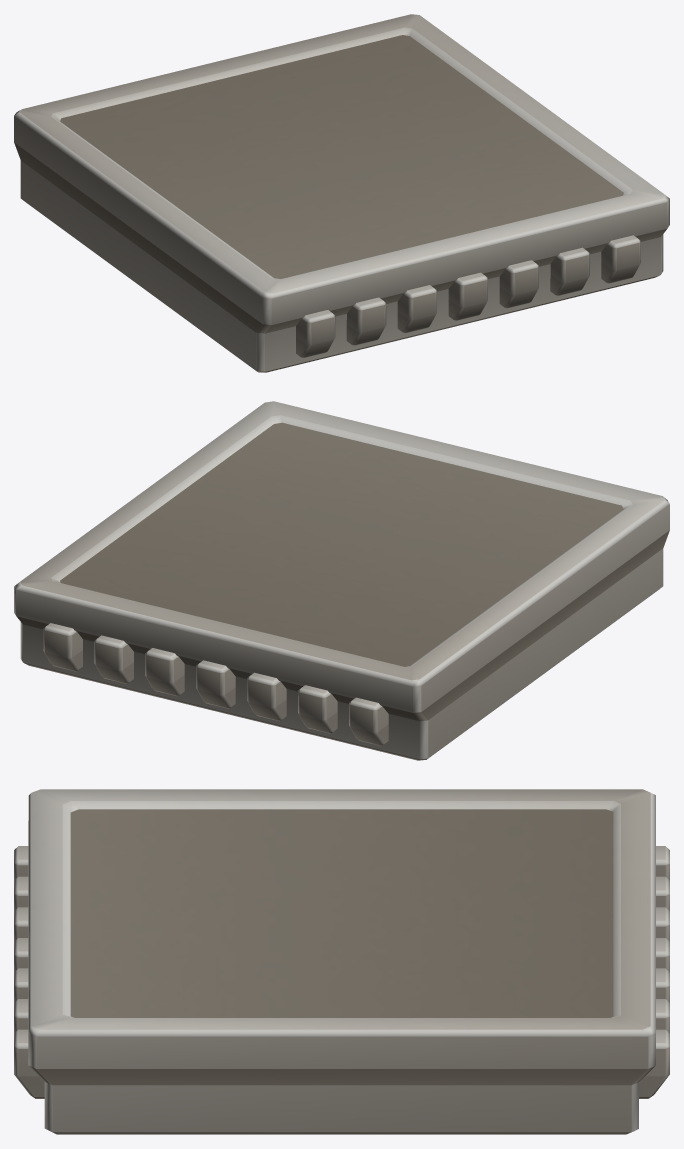
File: appartment_type1_roof_type2_x4_flat.fbx
3 views of the same model, one above another, from view 1: azimuth 30°, elevation 25°; view 2: azimuth 150°, elevation 25°; view 3: azimuth 270°, elevation 25° (orthographic). The views are drawn at different scales.
Parts seen in each view (by area): view 1: appartment_type1_roof_type2_x4_flat; view 2: appartment_type1_roof_type2_x4_flat; view 3: appartment_type1_roof_type2_x4_flat.
Boxes of the visible parts, left/top/right/bottom form: appartment_type1_roof_type2_x4_flat: left=14, top=14, right=669, bottom=372; appartment_type1_roof_type2_x4_flat: left=14, top=401, right=669, bottom=760; appartment_type1_roof_type2_x4_flat: left=14, top=789, right=669, bottom=1134.
Size of the model in its own units: 800 by 160 by 907.
